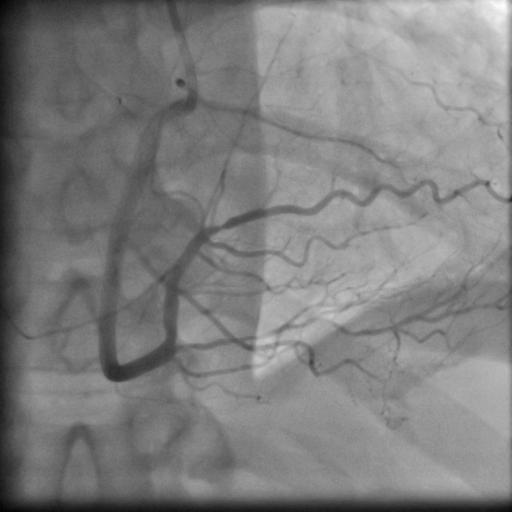Stenosis: (207, 220, 233, 238)
